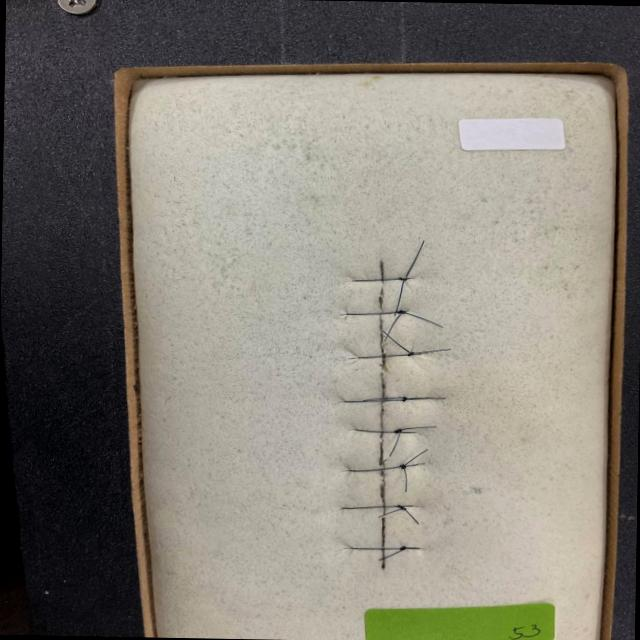knot: (392, 503, 409, 512), (393, 308, 409, 316), (396, 275, 410, 283), (397, 462, 409, 471), (391, 427, 404, 435), (399, 394, 410, 403), (404, 350, 416, 358), (396, 544, 408, 552)
leftover: (404, 239, 424, 279), (381, 329, 412, 354), (403, 311, 443, 328), (383, 311, 403, 341), (403, 448, 428, 466), (393, 278, 405, 315), (388, 430, 401, 457), (378, 548, 403, 560), (403, 508, 419, 525), (377, 507, 403, 517), (411, 348, 451, 354), (362, 396, 405, 401), (399, 425, 436, 430), (402, 466, 407, 492), (404, 397, 446, 399), (403, 546, 420, 549)
stitch: (349, 463, 419, 472), (357, 353, 416, 359), (354, 428, 415, 433), (346, 310, 406, 315), (351, 277, 410, 282), (341, 505, 414, 509), (344, 398, 407, 402), (349, 547, 418, 550)
wound: (378, 259, 386, 569)
